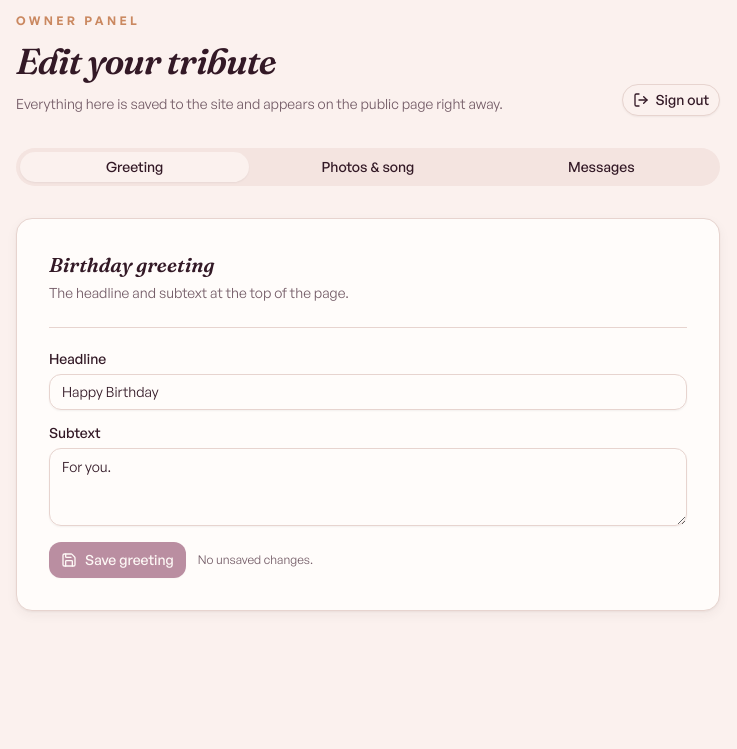
Test case: owner management panel › deletes a message
Step 1. Click the tab with test id "admin.messages.tab" → (601, 167), box [487,152,716,182]
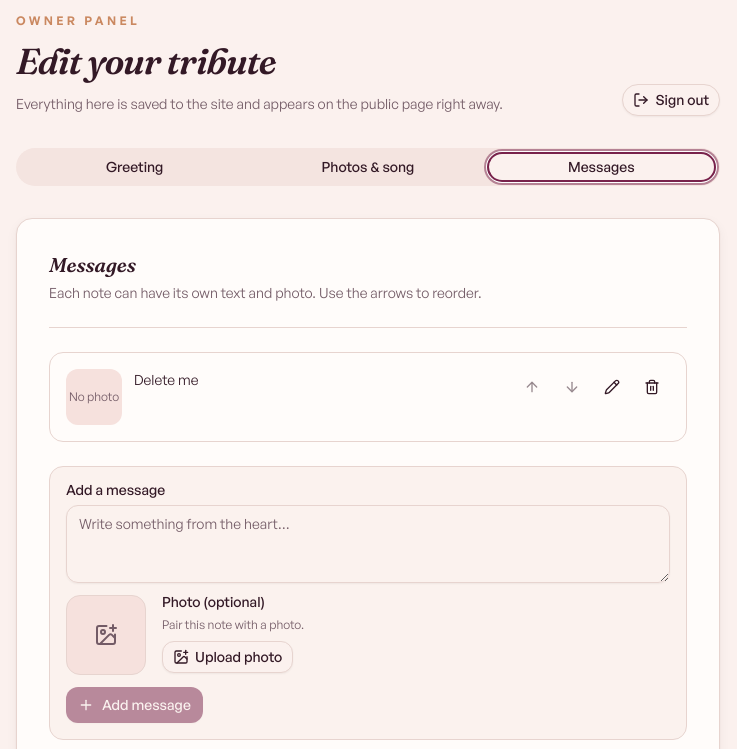
Step 2. Click the button with test id "owner.message.delete_button.1" → (652, 387), box [634,369,670,405]
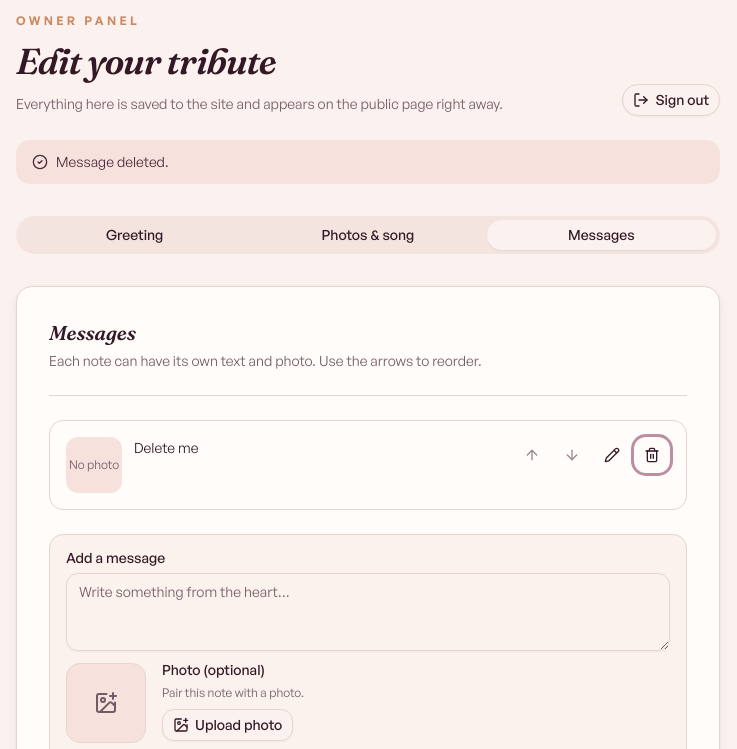
Now the element with test id "admin.success_state" reads "Message deleted.", box [56,153,169,170]
